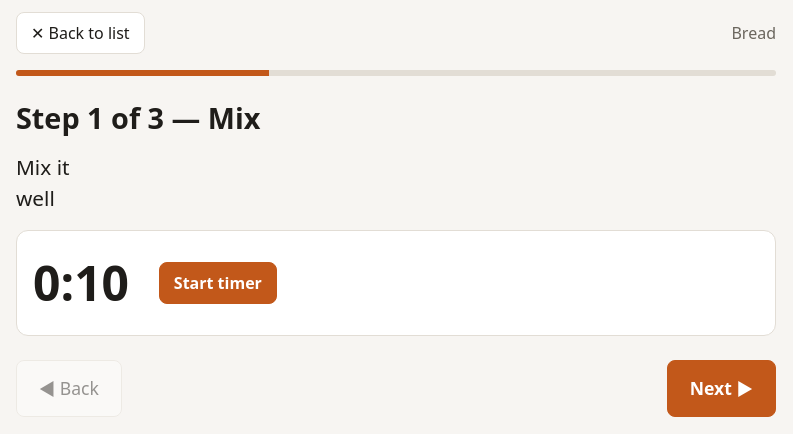
Test: timer end reports step and stays on it
Click the button "Next ▶".
click(721, 389)  # box [667,360,776,417]
Wait 30000 ms
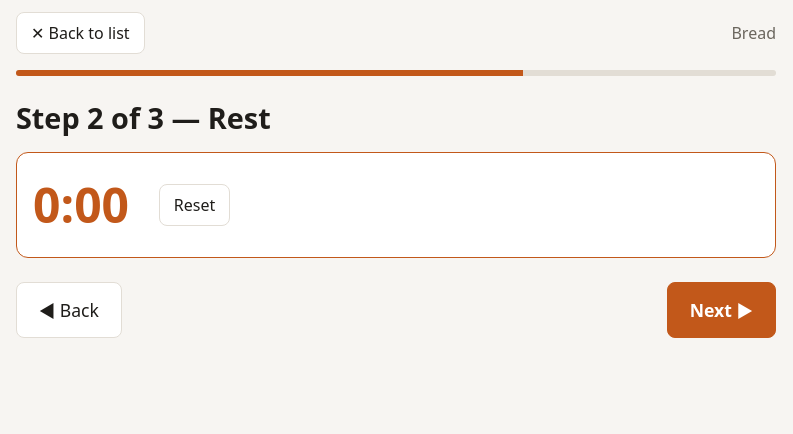
expect the heading shows "Step 2 of 3": met, box [16,98,271,137]
